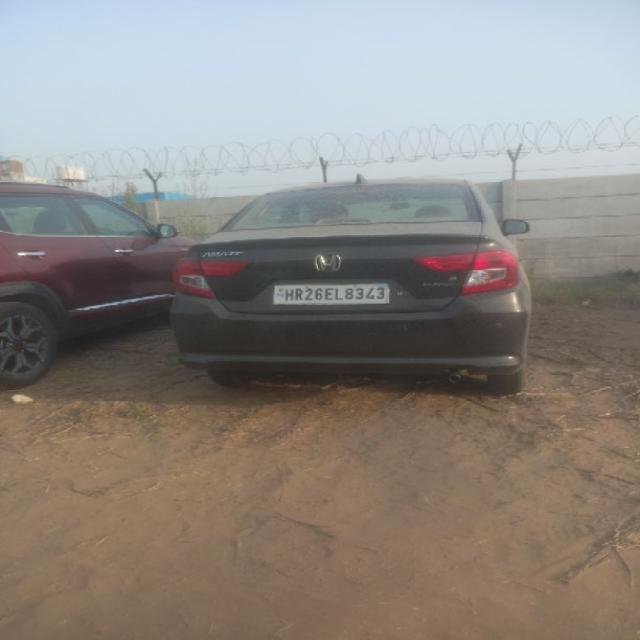license_plate: (271, 281, 391, 305)
